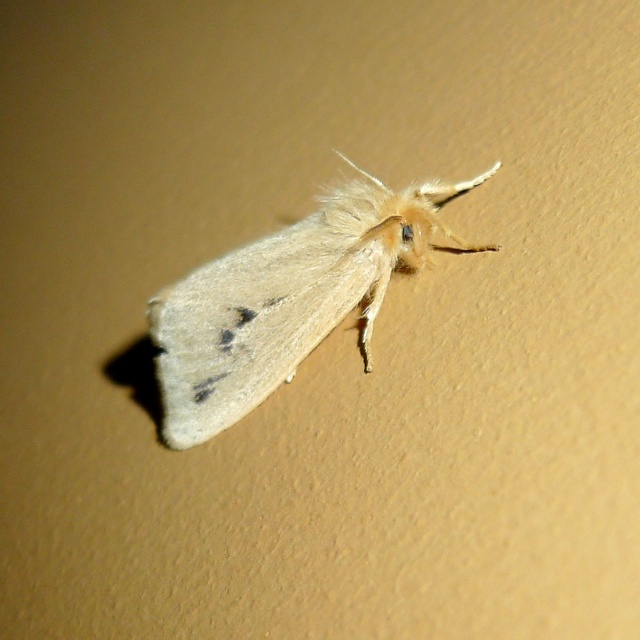Moths and butterflies: (144, 147, 506, 450)
